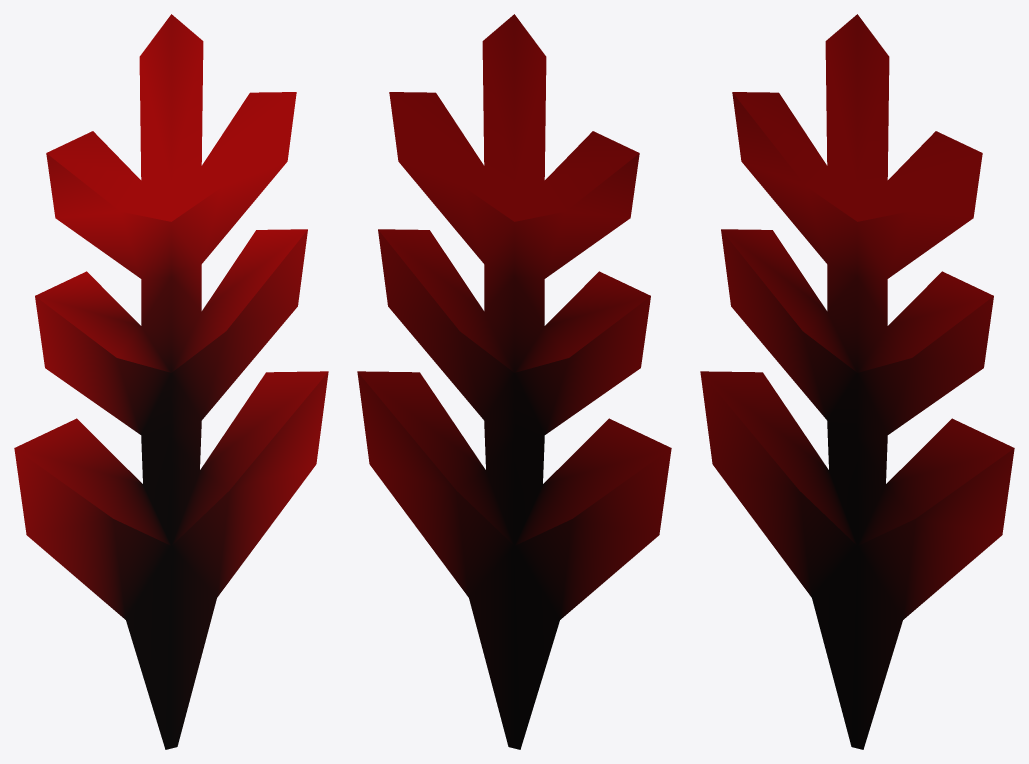
The model's file is SM_Fern_02_LOD1.fbx.
The picture shows the model from 3 angles, left to right: view 1: azimuth 30°, elevation 25°; view 2: azimuth 150°, elevation 25°; view 3: azimuth 330°, elevation 25°; orthographic projection.
Visible parts, largest first — view 1: Fern_02_LOD1; view 2: Fern_02_LOD1; view 3: Fern_02_LOD1.
Part boxes in pixels (x1,y1,x2,y2): Fern_02_LOD1: [14, 14, 328, 749]; Fern_02_LOD1: [357, 14, 671, 749]; Fern_02_LOD1: [700, 14, 1014, 749].
Bounding box in the file's own units: 53.05 × 118 × 2.58e-05.
